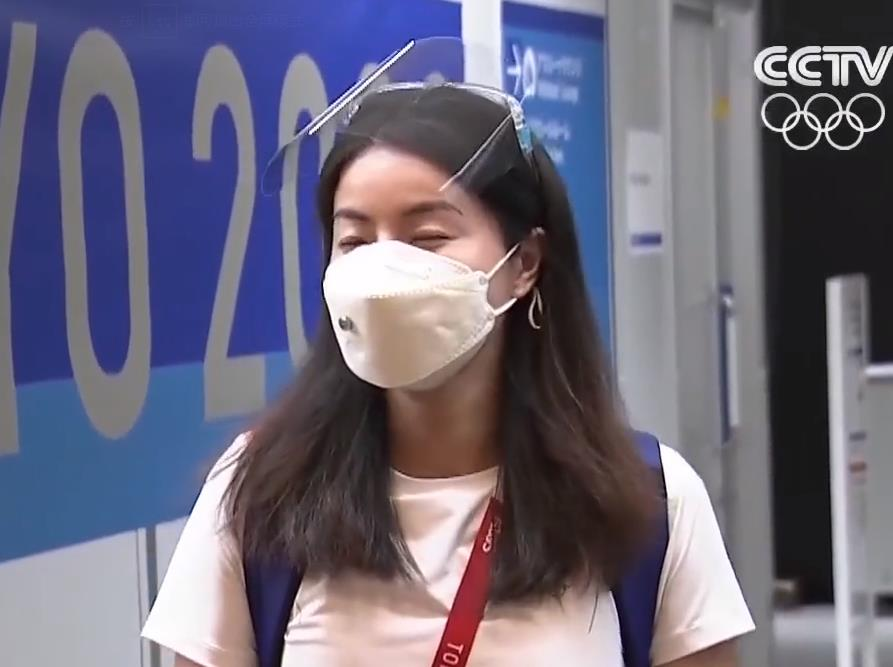mask: (329, 164, 515, 388)
